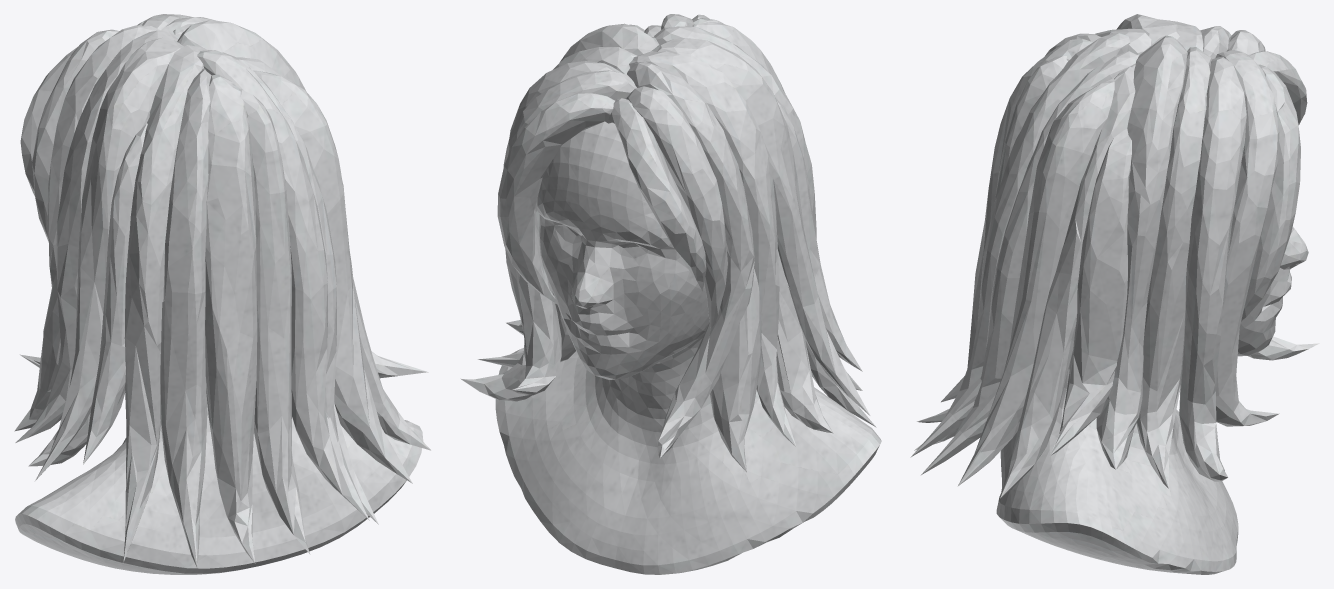
File: Filter_0.gltf
3 views of the same model, side by side, from view 1: azimuth 30°, elevation 25°; view 2: azimuth 150°, elevation 25°; view 3: azimuth 270°, elevation 25° (orthographic). The views are drawn at different scales.
Parts seen in each view (by area): view 1: CHEVEUX.2; view 2: CHEVEUX.2; view 3: CHEVEUX.2.
Part boxes in pixels (x1,y1,x2,y2): CHEVEUX.2: [14, 14, 430, 574]; CHEVEUX.2: [460, 14, 881, 574]; CHEVEUX.2: [910, 14, 1319, 574].
Size of the model in its own units: 52.79 by 69.55 by 49.56.
1 material, 1 textured.
